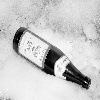beer: (11, 26, 89, 91)
